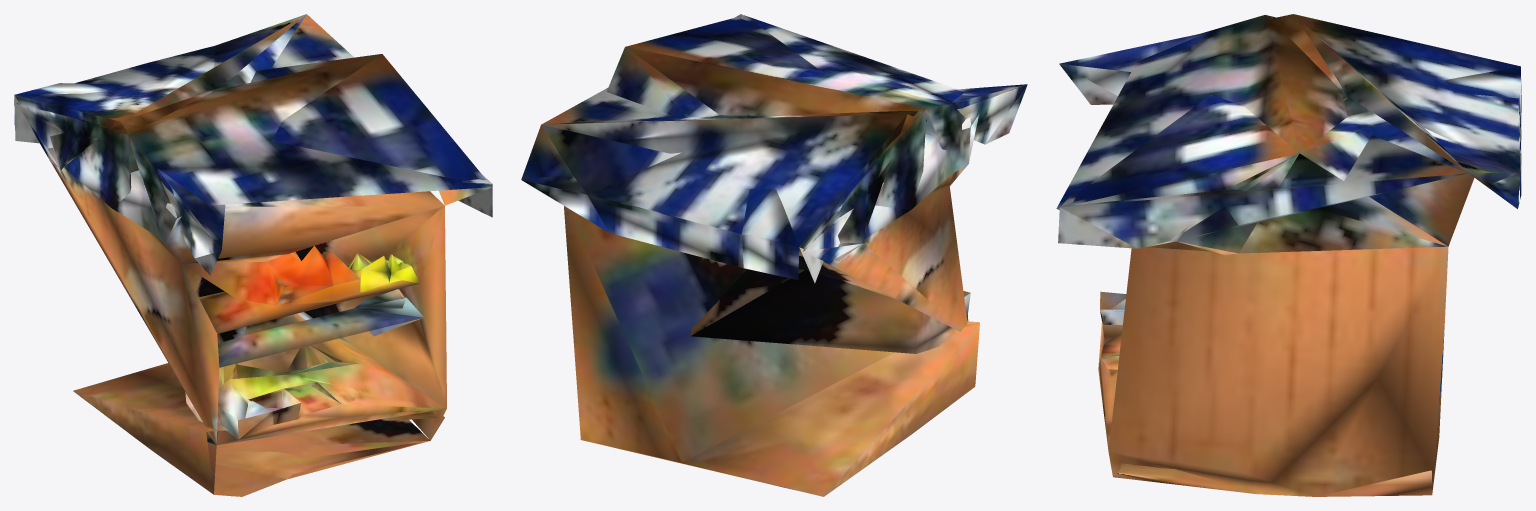
The model's file is kiosk-blue-far.glb.
The picture shows the model from 3 angles, left to right: view 1: azimuth 30°, elevation 25°; view 2: azimuth 150°, elevation 25°; view 3: azimuth 270°, elevation 25°; orthographic projection. The views are drawn at different scales.
Visible parts, largest first — view 1: kiosk-far; view 2: kiosk-far; view 3: kiosk-far.
Boxes of the visible parts, x1,y1,x2,y2 form: kiosk-far: (14, 14, 492, 496); kiosk-far: (521, 14, 1027, 496); kiosk-far: (1056, 14, 1521, 496).
Size of the model in its own units: 2.97 by 3.31 by 3.96.
1 material, 1 textured.
